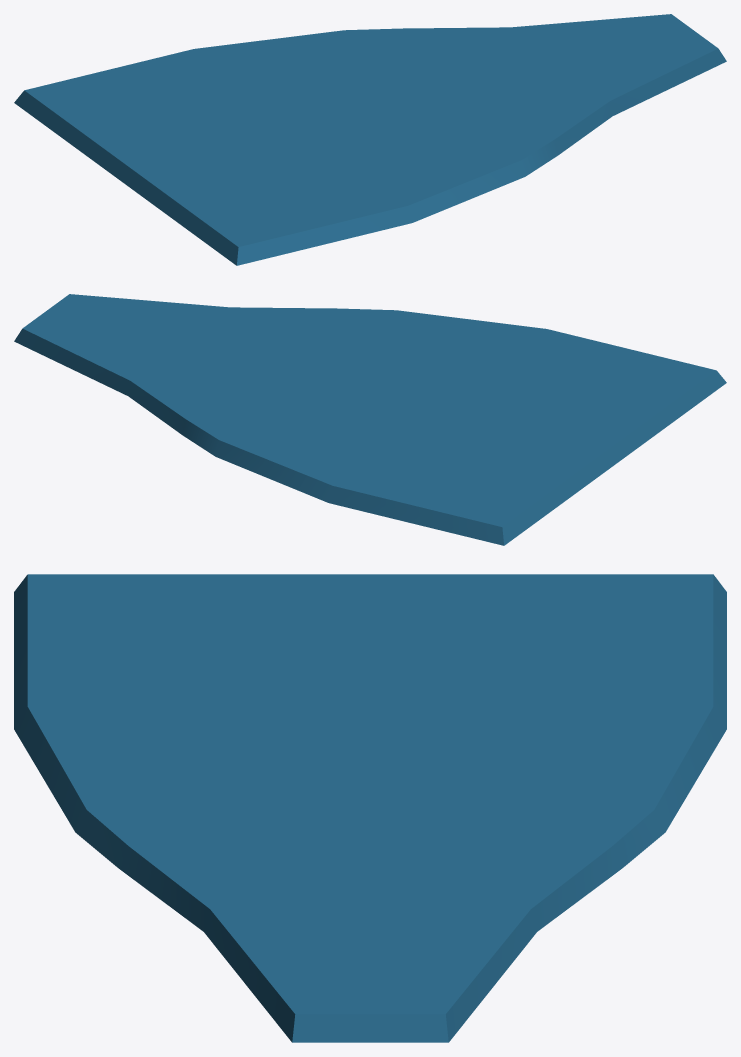
File: SM_Env_Divider_Transition_01_Collision.fbx
3 renders of one model, top to bottom at view 1: azimuth 30°, elevation 25°; view 2: azimuth 150°, elevation 25°; view 3: azimuth 270°, elevation 25°, orthographic. The views are drawn at different scales.
Parts seen in each view (by area): view 1: SM_Env_Divider_Transition_01_Collision; view 2: SM_Env_Divider_Transition_01_Collision; view 3: SM_Env_Divider_Transition_01_Collision.
Boxes of the visible parts, x1,y1,x2,y2 form: SM_Env_Divider_Transition_01_Collision: (14,14,726,265); SM_Env_Divider_Transition_01_Collision: (14,294,726,545); SM_Env_Divider_Transition_01_Collision: (14,574,726,1042).
Bounding box in the file's own units: 1029 × 24.11 × 688.
